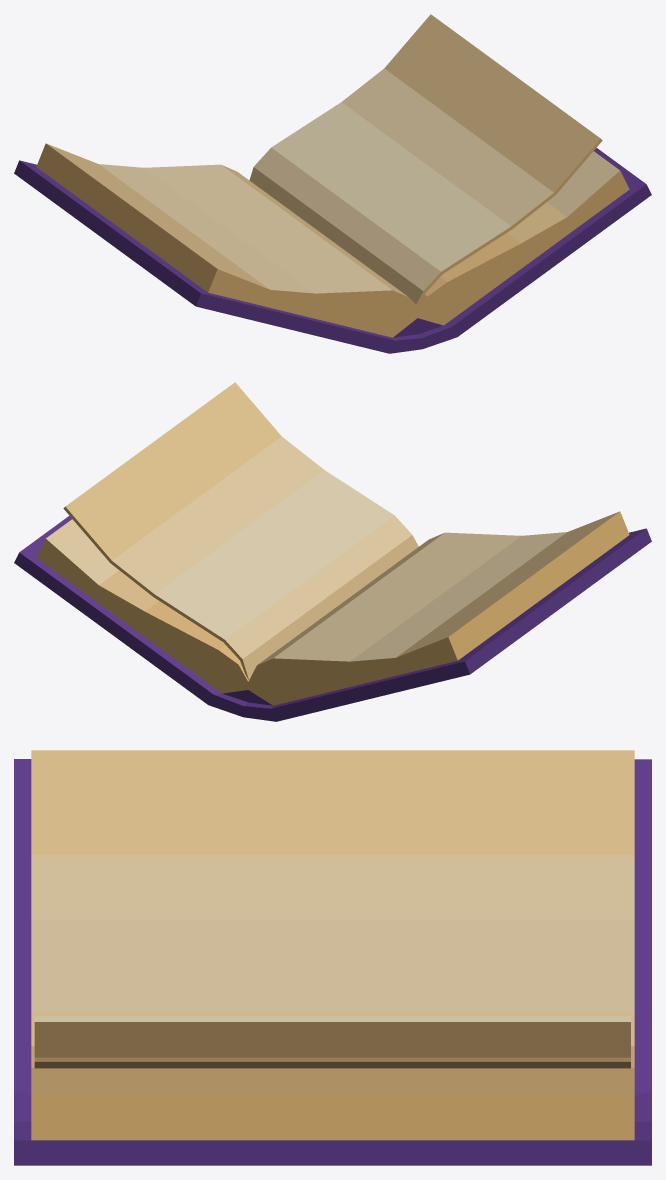
Rendered from Prop_Book_Open.fbx.
3 renders of one model, top to bottom at view 1: azimuth 30°, elevation 25°; view 2: azimuth 150°, elevation 25°; view 3: azimuth 270°, elevation 25°, orthographic. The views are drawn at different scales.
Visible parts, largest first — view 1: Book; view 2: Book; view 3: Book.
Part boxes in pixels (x1,y1,x2,y2): Book: (14,14,651,353); Book: (14,382,651,721); Book: (14,750,651,1165).
Bounding box in the file's own units: 290 × 98.06 × 200.
